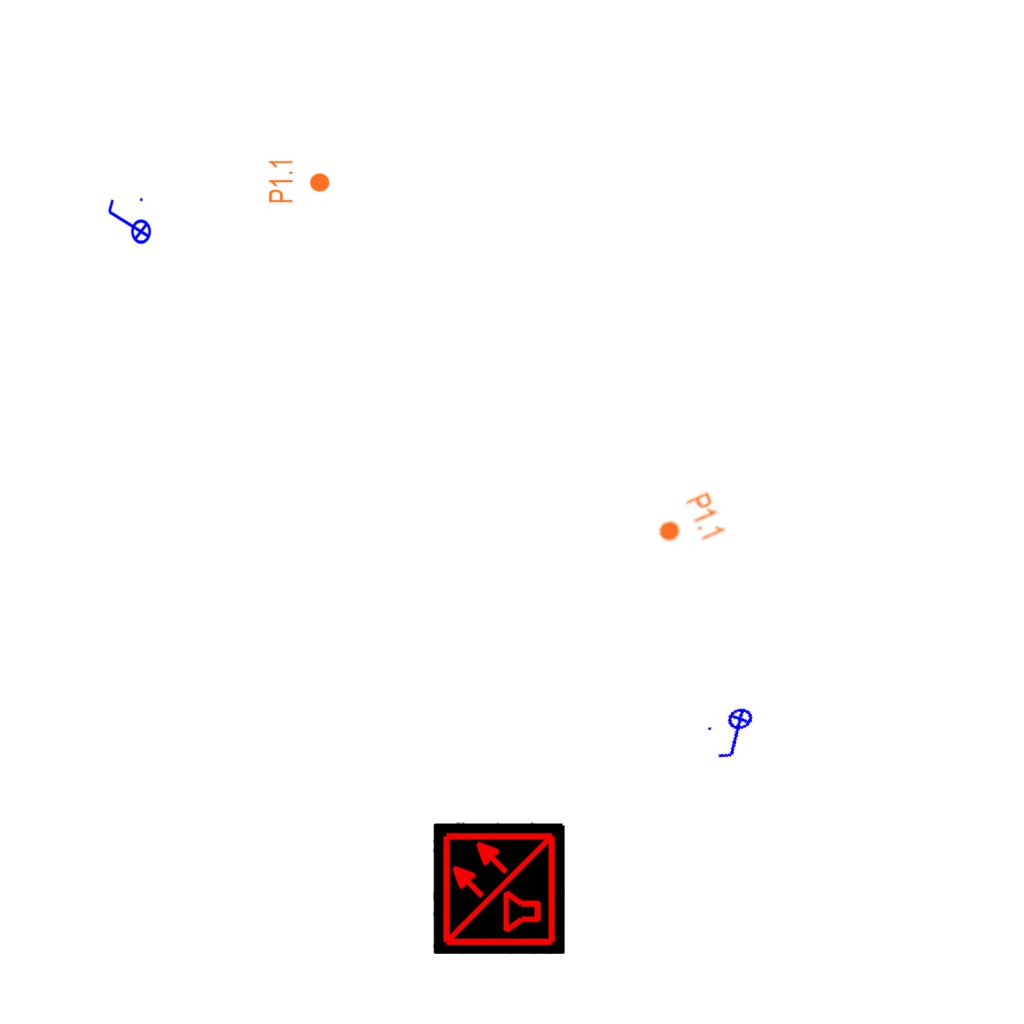Ausschalter_beleuchtet: (701, 702, 771, 766), (104, 195, 152, 251)
Downlight_LED_Einbauleuchten_Flur: (650, 489, 728, 559), (267, 158, 331, 204)
OKW_Multisensormelder_(Kombination_optischer_Rauch-Kahlenmonoxid_Waerme-Melder): (433, 822, 565, 954)
